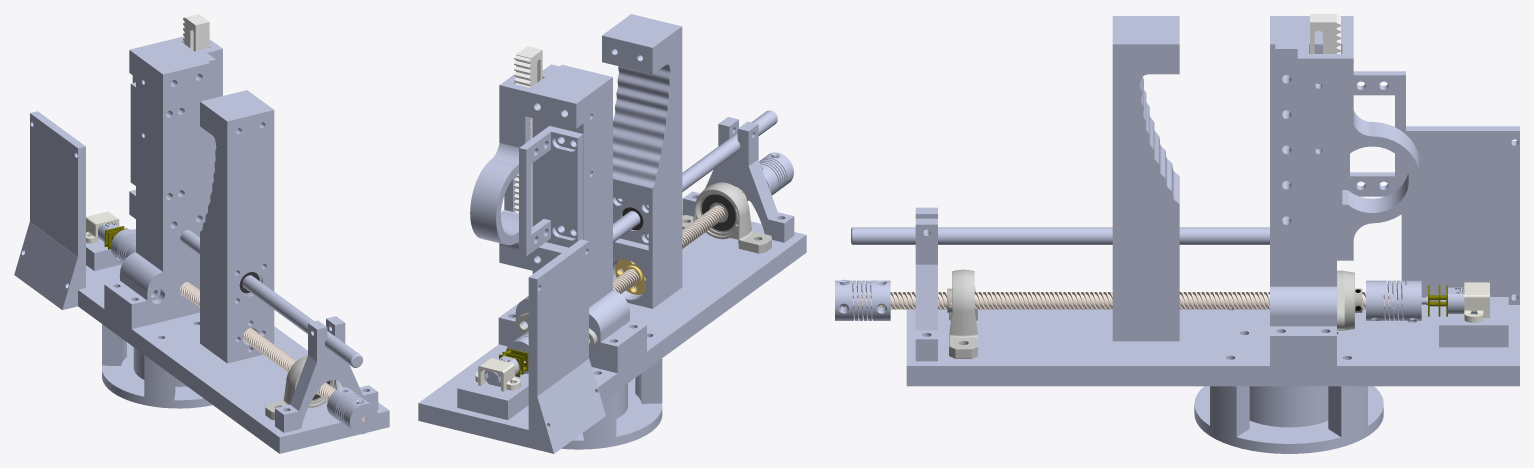
The model's file is gripper.glb.
The picture shows the model from 3 angles, left to right: view 1: azimuth 30°, elevation 25°; view 2: azimuth 150°, elevation 25°; view 3: azimuth 270°, elevation 25°; orthographic projection. The views are drawn at different scales.
Parts seen in each view (by area): view 1: BasePlate-1, Fixed Jaw 1.0-1, Moving Jaw 1.0-1, sapcer for the wrist-1, GuideRailLink-1, Guiderail-1, cover-1, 5X8_COUPLER-2, Trapezoidal lead screw tr8x8-4-1, KP08-2, Tandheugel Module 1-1, 5X8_COUPLER-1 (+3 smaller); view 2: BasePlate-1, Moving Jaw 1.0-1, Fixed Jaw 1.0-1, cover-1, servo mount-1, GuideRailLink-1, sapcer for the wrist-1, KP08-2, Guiderail-1, Tandheugel Module 1-1, Trapezoidal lead screw tr8x8-4-1, Linear 8mm (LMK8U)-1 (+5 smaller); view 3: BasePlate-1, cover-1, Moving Jaw 1.0-1, sapcer for the wrist-1, Fixed Jaw 1.0-1, Guiderail-1, Trapezoidal lead screw tr8x8-4-1, GuideRailLink-1, servo mount-1, KP08-2, 5X8_COUPLER-1, 5X8_COUPLER-2 (+4 smaller).
Boxes of the visible parts, x1,y1,x2,y2 form: BasePlate-1: [14, 111, 389, 453]; Fixed Jaw 1.0-1: [104, 43, 210, 328]; Moving Jaw 1.0-1: [200, 90, 274, 363]; sapcer for the wrist-1: [102, 324, 212, 408]; GuideRailLink-1: [275, 316, 378, 432]; Guiderail-1: [180, 230, 362, 367]; cover-1: [129, 36, 222, 218]; 5X8_COUPLER-2: [327, 387, 377, 434]; Trapezoidal lead screw tr8x8-4-1: [179, 282, 365, 421]; KP08-2: [265, 355, 342, 420]; Tandheugel Module 1-1: [183, 14, 209, 51]; 5X8_COUPLER-1: [111, 229, 135, 262]; BasePlate-1: [418, 210, 806, 453]; Moving Jaw 1.0-1: [602, 14, 682, 308]; Fixed Jaw 1.0-1: [498, 64, 646, 372]; cover-1: [470, 64, 583, 271]; servo mount-1: [519, 126, 583, 256]; GuideRailLink-1: [682, 117, 794, 242]; sapcer for the wrist-1: [562, 358, 662, 449]; KP08-2: [682, 182, 771, 253]; Guiderail-1: [613, 110, 777, 242]; Tandheugel Module 1-1: [514, 46, 542, 227]; Trapezoidal lead screw tr8x8-4-1: [613, 188, 748, 293]; Linear 8mm (LMK8U)-1: [613, 197, 648, 245]; BasePlate-1: [906, 126, 1519, 386]; cover-1: [1275, 16, 1420, 260]; Moving Jaw 1.0-1: [1112, 16, 1179, 341]; sapcer for the wrist-1: [1194, 386, 1383, 453]; Fixed Jaw 1.0-1: [1270, 16, 1336, 365]; Guiderail-1: [851, 227, 1269, 244]; Trapezoidal lead screw tr8x8-4-1: [842, 292, 1393, 309]; GuideRailLink-1: [915, 207, 937, 361]; servo mount-1: [1342, 71, 1405, 196]; KP08-2: [949, 269, 977, 358]; 5X8_COUPLER-1: [1366, 280, 1421, 322]; 5X8_COUPLER-2: [835, 279, 890, 320].
Bounding box in the file's own units: 0.0875 × 0.2054 × 0.3072.
